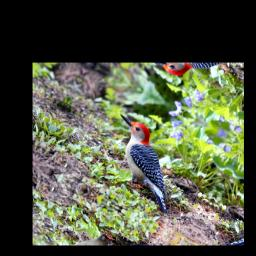Woodpecker: (87, 112, 201, 216)
